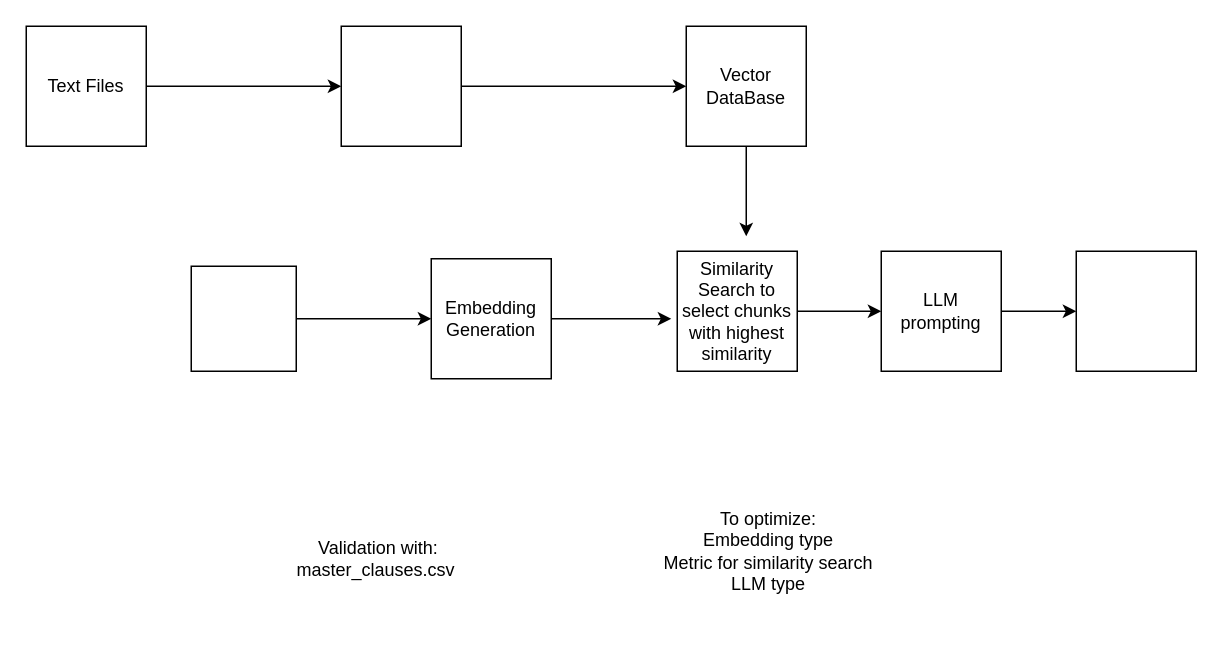
Some shapes in this 1223 by 668 pixel diagram are drawn without their labels. The box of each missing label's shape, as (x1, y1, x2, y2) in pixels:
Chunking, Embedding Generation: (340, 25, 461, 146)
Final Answers: (1075, 250, 1196, 371)
Questions: (190, 265, 296, 371)
